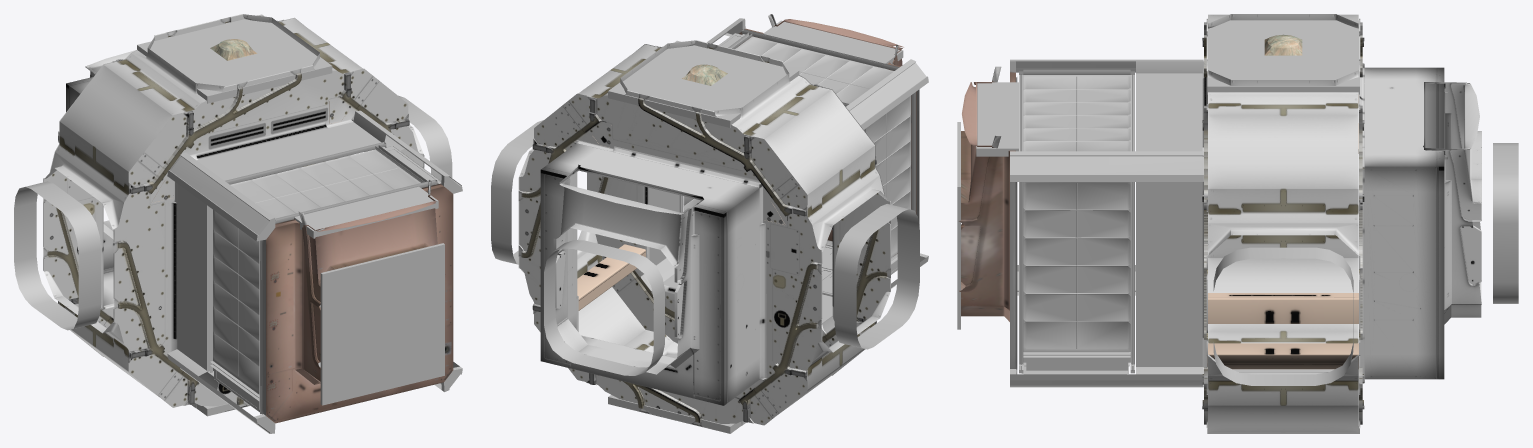
File: node_1_minimal.obj
The picture shows the model from 3 angles, left to right: view 1: azimuth 30°, elevation 25°; view 2: azimuth 150°, elevation 25°; view 3: azimuth 270°, elevation 25°; orthographic projection. The views are drawn at different scales.
Parts seen in each view (by area): view 1: part2, part1, part3, Cube.002, part5, Cube, Cube.003; view 2: part2, part3, part1, part5, Cube, Cube.003, Cube.001; view 3: part1, part2, part3, Cube, part5, Cube.003, Cube.002, Cube.001.
Part boxes in pixels (<box>): part2: <box>43,14,424,411</box>; part1: <box>167,110,462,433</box>; part3: <box>66,39,453,423</box>; Cube.002: <box>320,243,444,405</box>; part5: <box>14,95,452,330</box>; Cube: <box>137,14,332,103</box>; Cube.003: <box>294,186,438,238</box>; part2: <box>518,40,890,427</box>; part3: <box>540,14,919,405</box>; part1: <box>640,18,928,333</box>; part5: <box>491,120,919,375</box>; Cube: <box>608,40,799,127</box>; Cube.003: <box>761,20,903,69</box>; Cube.001: <box>608,353,740,433</box>; part1: <box>1010,59,1203,387</box>; part2: <box>1202,14,1364,432</box>; part3: <box>959,34,1481,379</box>; Cube: <box>1207,20,1359,94</box>; part5: <box>1213,143,1518,385</box>; Cube.003: <box>976,82,1018,156</box>; Cube.002: <box>957,122,960,329</box>; Cube.001: <box>1207,369,1359,433</box>.
Size of the model in its own units: 4.26 by 3.72 by 5.11.
